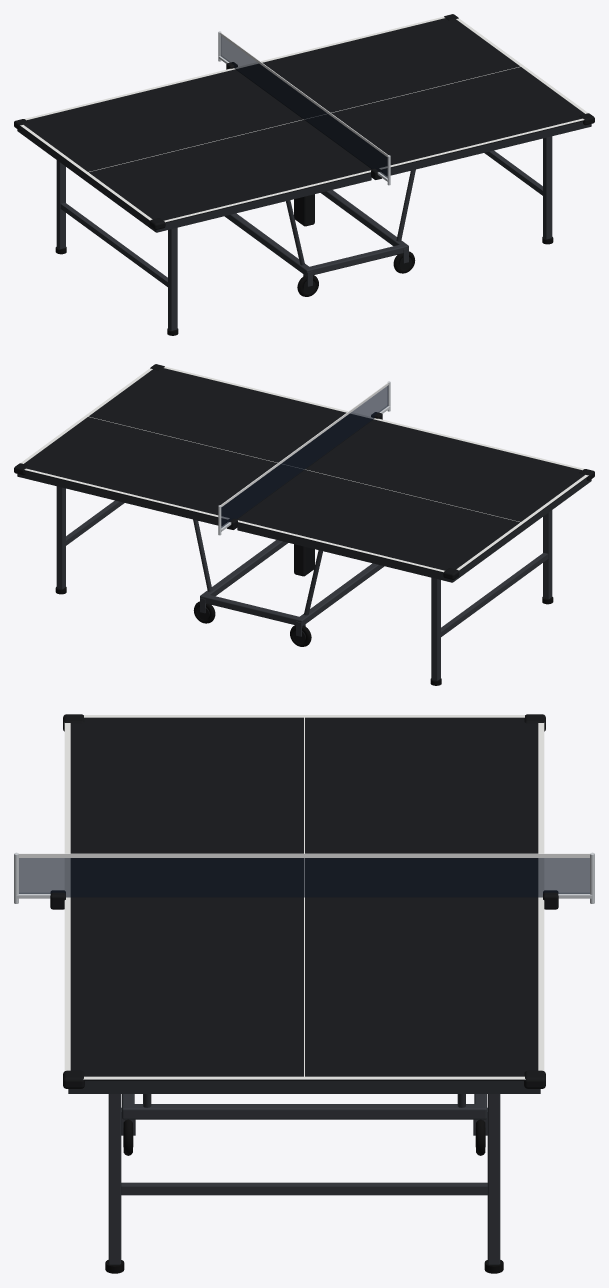
The model's file is platte-outdoor-schwarz.glb.
The picture shows the model from 3 angles, top to bottom: view 1: azimuth 30°, elevation 25°; view 2: azimuth 150°, elevation 25°; view 3: azimuth 270°, elevation 25°; orthographic projection. The views are drawn at different scales.
Visible parts, largest first — view 1: Platte (×2), Hälfte A, Netz, Beine (×2), Fahrwerk, Hälfte B, Tischtennisplatte; view 2: Platte (×2), Hälfte A, Netz, Beine (×2), Fahrwerk, Hälfte B, Tischtennisplatte; view 3: Platte (×2), Netz, Hälfte B, Beine, Fahrwerk, Hälfte A.
Boxes of the visible parts, x1=… form: Platte (×2): x1=20, y1=18, x2=584, y2=222; Hälfte A: x1=14, y1=68, x2=371, y2=232; Netz: x1=218, y1=31, x2=390, y2=185; Beine (×2): x1=55, y1=136, x2=553, y2=335; Fahrwerk: x1=224, y1=190, x2=415, y2=296; Hälfte B: x1=235, y1=14, x2=594, y2=175; Tischtennisplatte: x1=286, y1=169, x2=415, y2=265; Platte (×2): x1=24, y1=368, x2=588, y2=572; Hälfte A: x1=237, y1=418, x2=594, y2=582; Netz: x1=218, y1=381, x2=390, y2=535; Beine (×2): x1=55, y1=486, x2=553, y2=685; Fahrwerk: x1=193, y1=540, x2=384, y2=646; Hälfte B: x1=14, y1=364, x2=373, y2=525; Tischtennisplatte: x1=193, y1=519, x2=322, y2=615; Platte (×2): x1=70, y1=717, x2=538, y2=1080; Netz: x1=14, y1=852, x2=594, y2=909; Hälfte B: x1=63, y1=897, x2=545, y2=1093; Beine: x1=105, y1=1094, x2=503, y2=1273; Fahrwerk: x1=121, y1=1094, x2=487, y2=1155; Hälfte A: x1=63, y1=714, x2=545, y2=896.
Bounding box in the file's own units: 2.75 × 0.9125 × 1.85.
